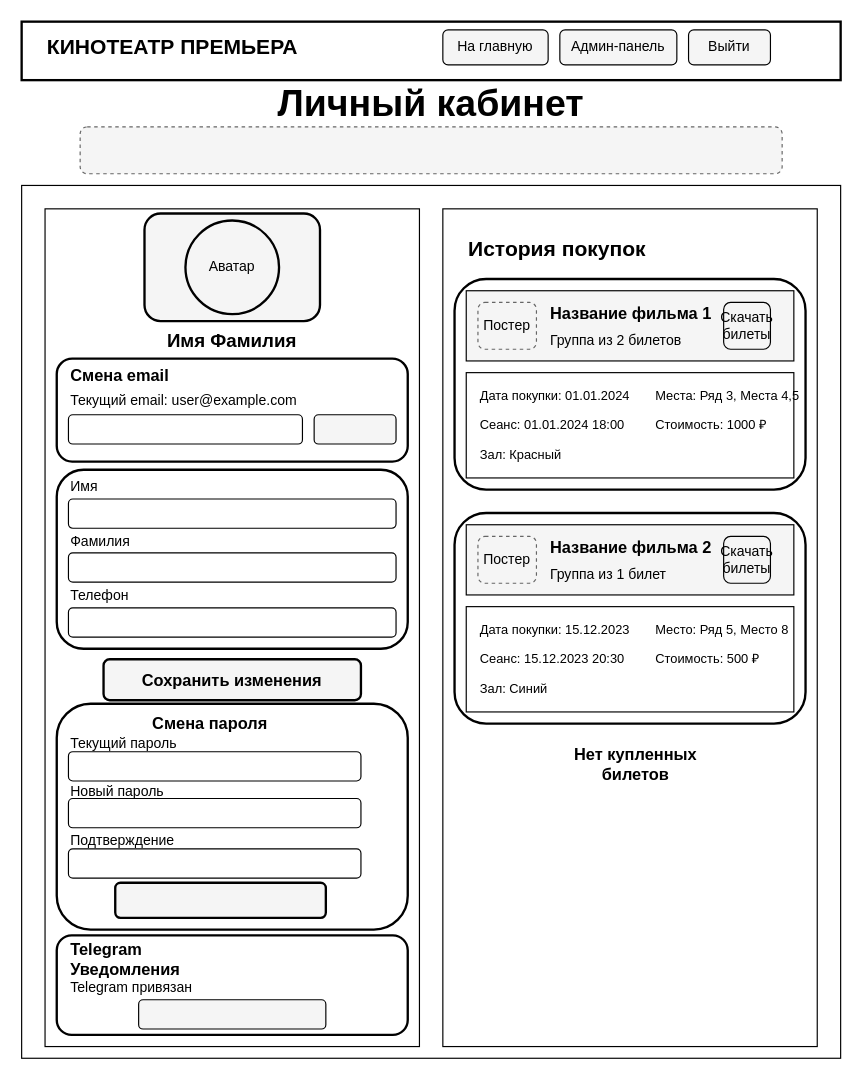
Image size: 861x1079. Some labels were removed from this diagram. Here are the shapes that lost their labels. From the top down, the centre of each, then its label:
At point (430, 150): "Сообщения системы".
At point (354, 429): "Запросить смену".
At point (219, 899): "Сменить пароль".
At point (231, 1014): "Управление Telegram".
